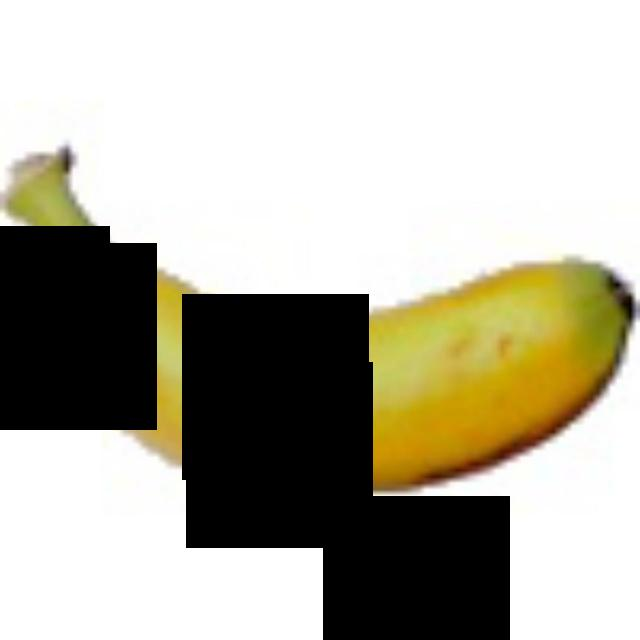banana: (0, 0, 633, 588)
